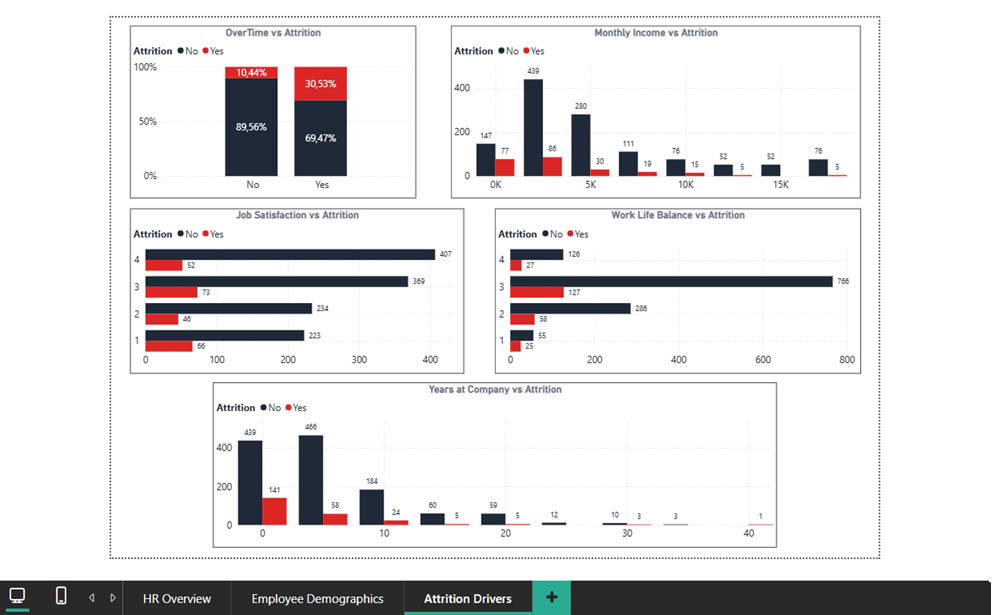

What the dashboard file says about the page in this screenshot:
{"tool":"powerbi","page":{"name":"Attrition Drivers","canvas":[1280,900],"ordinal":2},"visuals":[{"type":"hundredPercentStackedColumnChart","title":"OverTime vs Attrition","fields":{"Category":["HR Employee Attrition Analysis.Over Time"],"Y":["CountNonNull(HR Employee Attrition Analysis.Employee Number)"],"Series":["HR Employee Attrition Analysis.Attrition"]},"box":[31.7,13.3,476.7,288.3],"z":0},{"type":"clusteredBarChart","title":"Job Satisfaction vs Attrition","fields":{"Category":["HR Employee Attrition Analysis.Job Satisfaction"],"Y":["CountNonNull(HR Employee Attrition Analysis.Employee Number)"],"Series":["HR Employee Attrition Analysis.Attrition"]},"box":[31.7,318.3,556.7,275],"z":1000},{"type":"clusteredBarChart","title":"Work Life Balance vs Attrition","fields":{"Category":["HR Employee Attrition Analysis.Work Life Balance"],"Y":["CountNonNull(HR Employee Attrition Analysis.Employee Number)"],"Series":["HR Employee Attrition Analysis.Attrition"]},"box":[640,318.3,610,275],"z":2000},{"type":"clusteredColumnChart","title":"Monthly Income vs Attrition","fields":{"Category":["HR Employee Attrition Analysis.Monthly Income (contenitori)"],"Y":["CountNonNull(HR Employee Attrition Analysis.Employee Number)"],"Series":["HR Employee Attrition Analysis.Attrition"]},"box":[566.7,13.3,683.3,288.3],"z":3000},{"type":"clusteredColumnChart","title":"Years at Company vs Attrition","fields":{"Category":["HR Employee Attrition Analysis.Years At Company (contenitori)"],"Y":["CountNonNull(HR Employee Attrition Analysis.Employee Number)"],"Series":["HR Employee Attrition Analysis.Attrition"]},"box":[170,608.3,940,275],"z":4000}]}

Visuals, with their boxes on the page's 1280x900 design canvas (x1, y1, x2, y2). These are canvas units, not pixel positions in the 992x615 screenshot, which may show the page scaled, cropped or inside an application window:
"OverTime vs Attrition" hundredPercentStackedColumnChart: BBox(32, 13, 508, 302)
"Job Satisfaction vs Attrition" clusteredBarChart: BBox(32, 318, 588, 593)
"Work Life Balance vs Attrition" clusteredBarChart: BBox(640, 318, 1250, 593)
"Monthly Income vs Attrition" clusteredColumnChart: BBox(567, 13, 1250, 302)
"Years at Company vs Attrition" clusteredColumnChart: BBox(170, 608, 1110, 883)
